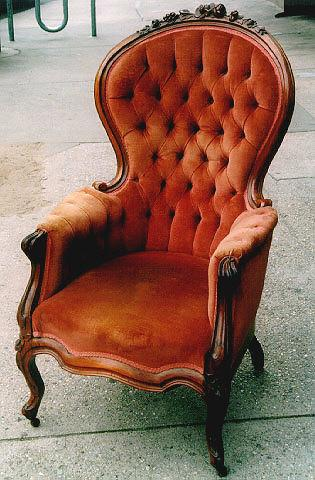chair: (15, 4, 296, 477)
